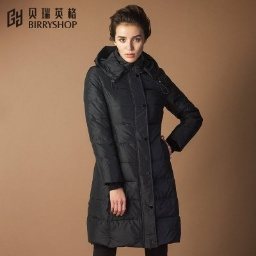face: (106, 4, 153, 67)
